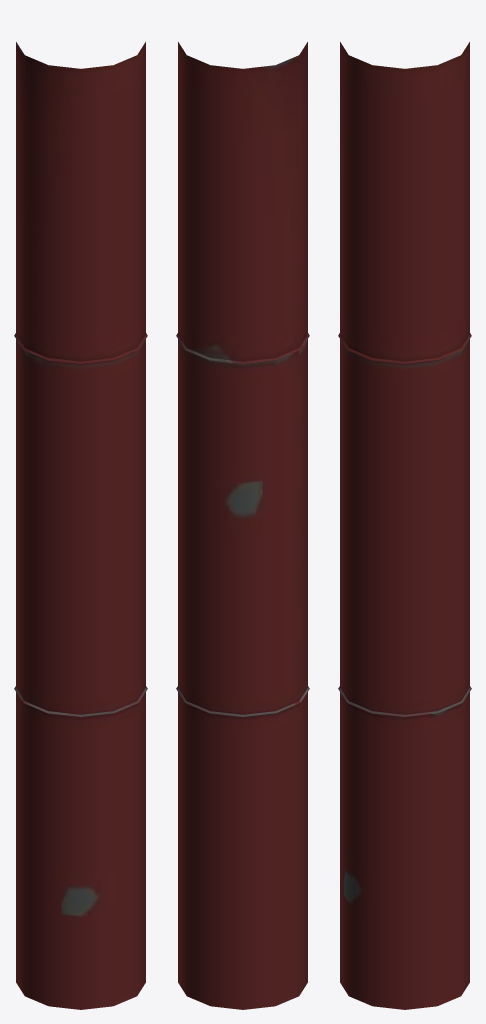
3 views of the same model, side by side, from view 1: azimuth 30°, elevation 25°; view 2: azimuth 150°, elevation 25°; view 3: azimuth 330°, elevation 25° (orthographic).
Parts seen in each view (by area): view 1: body0_model0_lod0_mesh0; view 2: body0_model0_lod0_mesh0; view 3: body0_model0_lod0_mesh0.
Boxes of the visible parts, x1,y1,x2,y2 form: body0_model0_lod0_mesh0: [14, 42, 147, 1009]; body0_model0_lod0_mesh0: [176, 42, 309, 1009]; body0_model0_lod0_mesh0: [338, 42, 471, 1009].
Size of the model in its own units: 65.91 by 512 by 65.91.
1 material, 1 textured.
